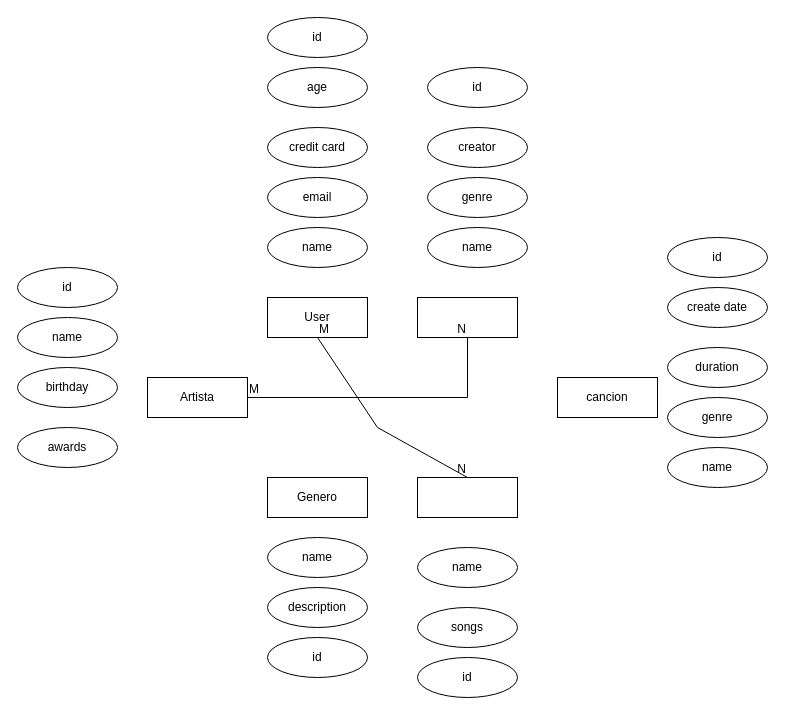
The diagram is 785 pixels wide and 715 high, and some of its shapes have lost their labels. Each missing label, with the centre of its shape:
"Album" goes at (467,317).
"Playlist" goes at (467,497).
